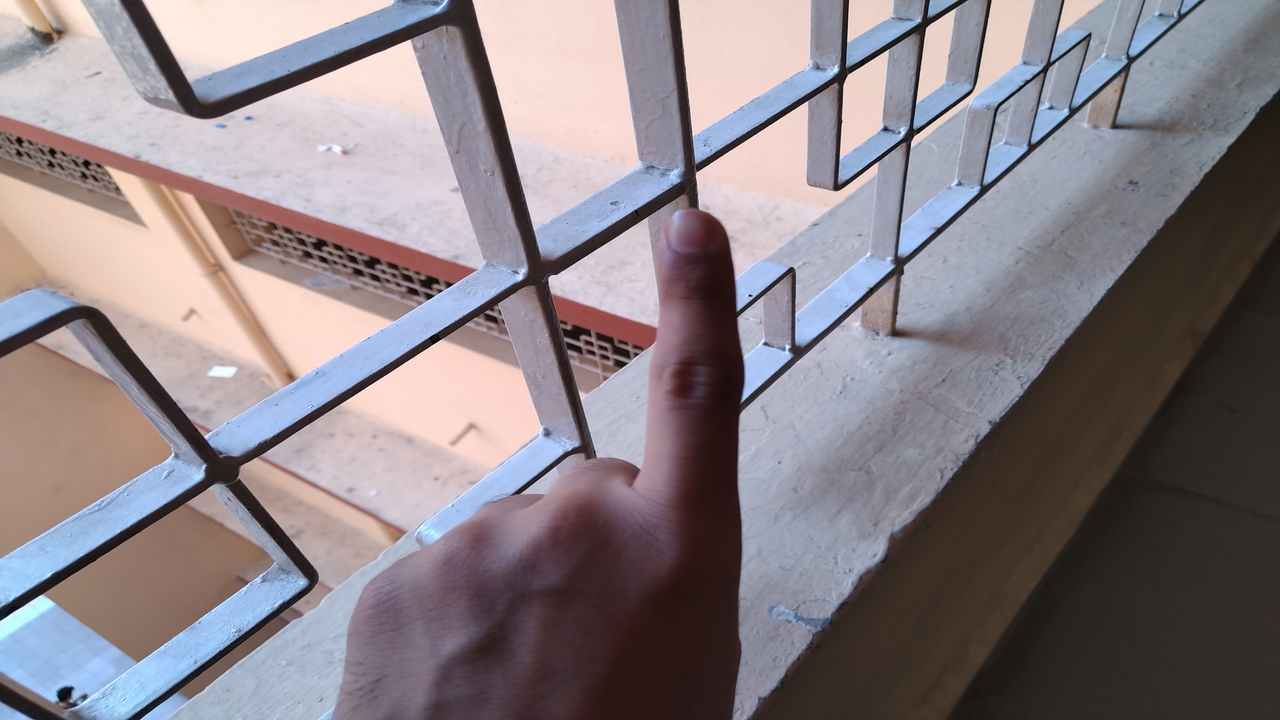fingertip: (656, 204, 728, 268)
